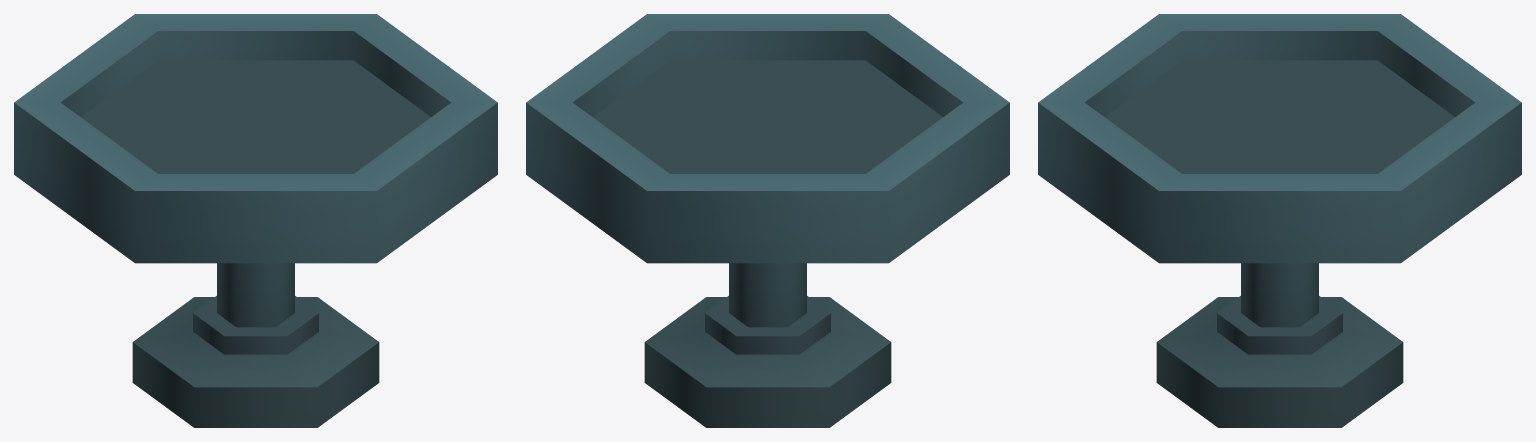
Rendered from FoodProp_1_F.glb.
3 views of the same model, side by side, from view 1: azimuth 30°, elevation 25°; view 2: azimuth 150°, elevation 25°; view 3: azimuth 270°, elevation 25° (orthographic).
Parts seen in each view (by area): view 1: FoodProp_1_F; view 2: FoodProp_1_F; view 3: FoodProp_1_F.
Boxes of the visible parts, bbox=[...] form: FoodProp_1_F: bbox=[14, 14, 497, 427]; FoodProp_1_F: bbox=[526, 14, 1009, 427]; FoodProp_1_F: bbox=[1038, 14, 1521, 427].
Size of the model in its own units: 0.4995 by 0.3688 by 0.5767.
Materials: 1 (1 with a texture image).
